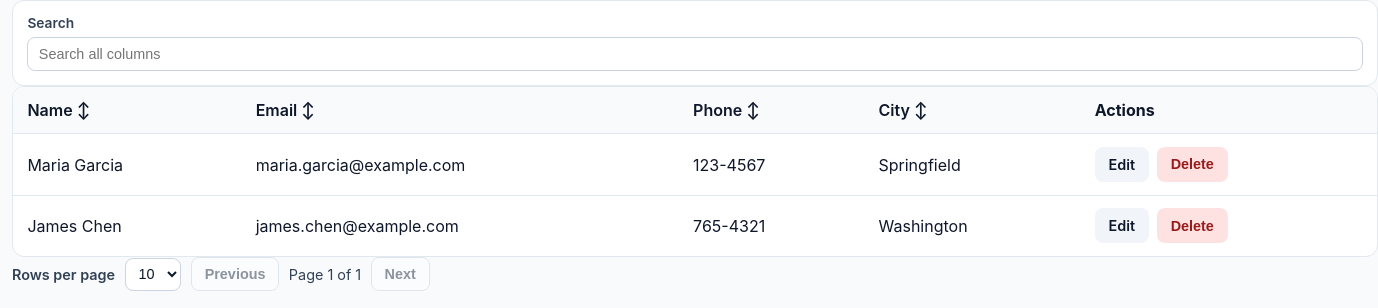
Test: CustomerList › filters customers with the global search bar
Type "washington" into the search field labelled "Search" at (695, 54), box [27,37,1363,71]
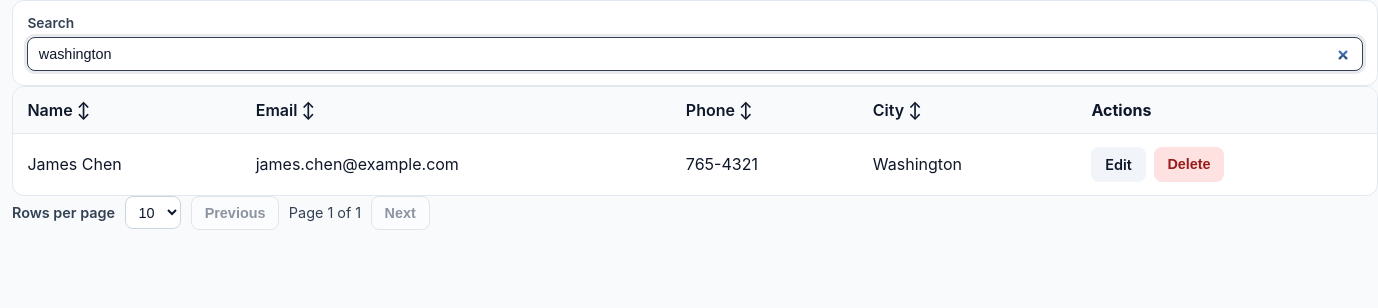
Expected: the text "James Chen" is shown, [13,134,241,195]
Now the text "Maria Garcia" is gone
